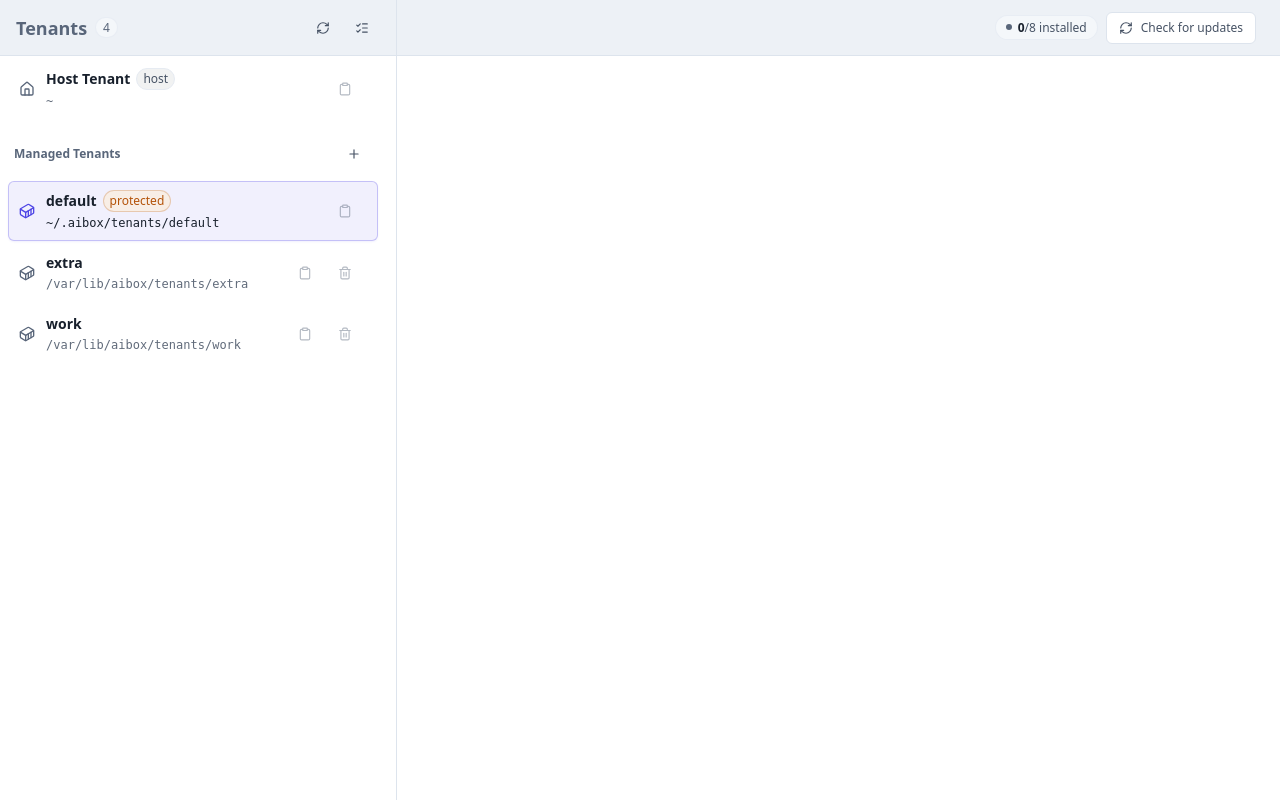
Scenario: TenantPage › lists a batch deletion in catalog order regardless of tick order
Click the button named "Select Tenants" at coordinates (362, 28), box left=344, top=10, right=380, bottom=46
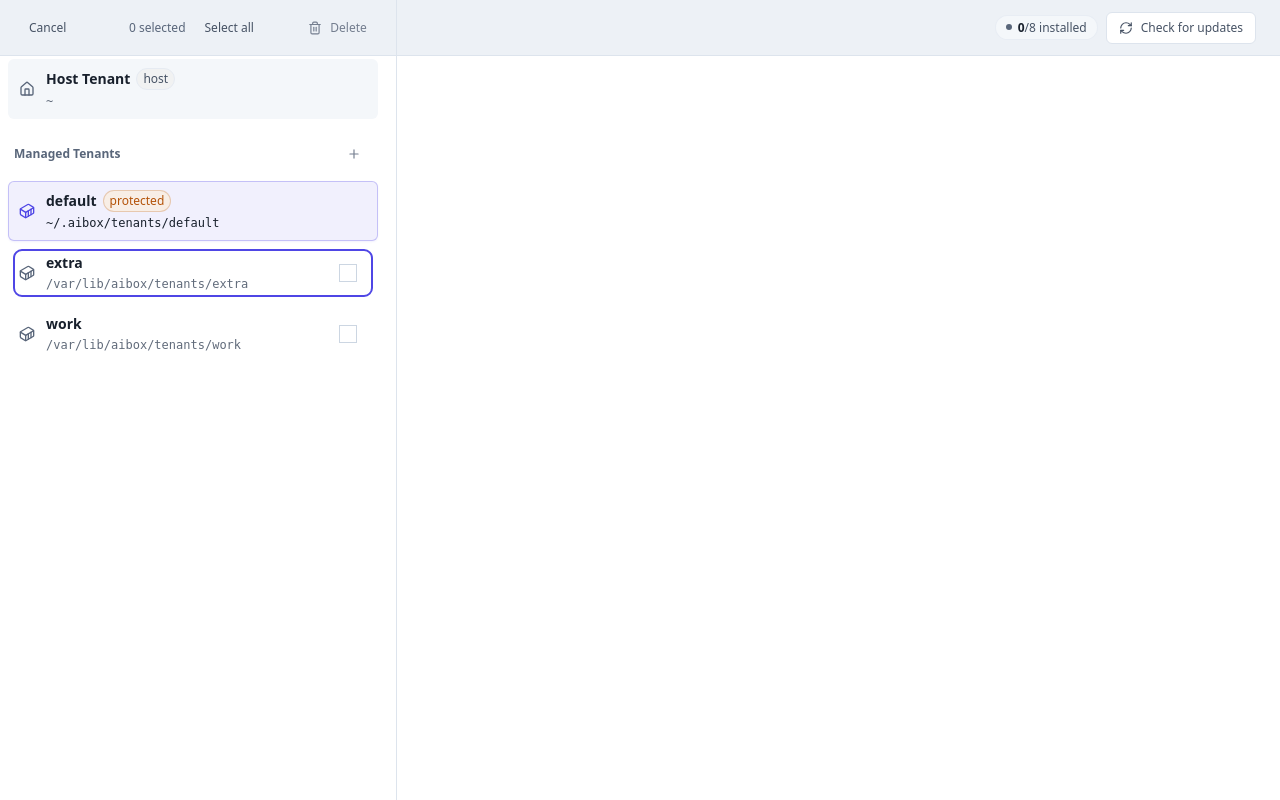
Click the button with aria-label "Select work" at coordinates (64, 324), box left=17, top=314, right=369, bottom=354
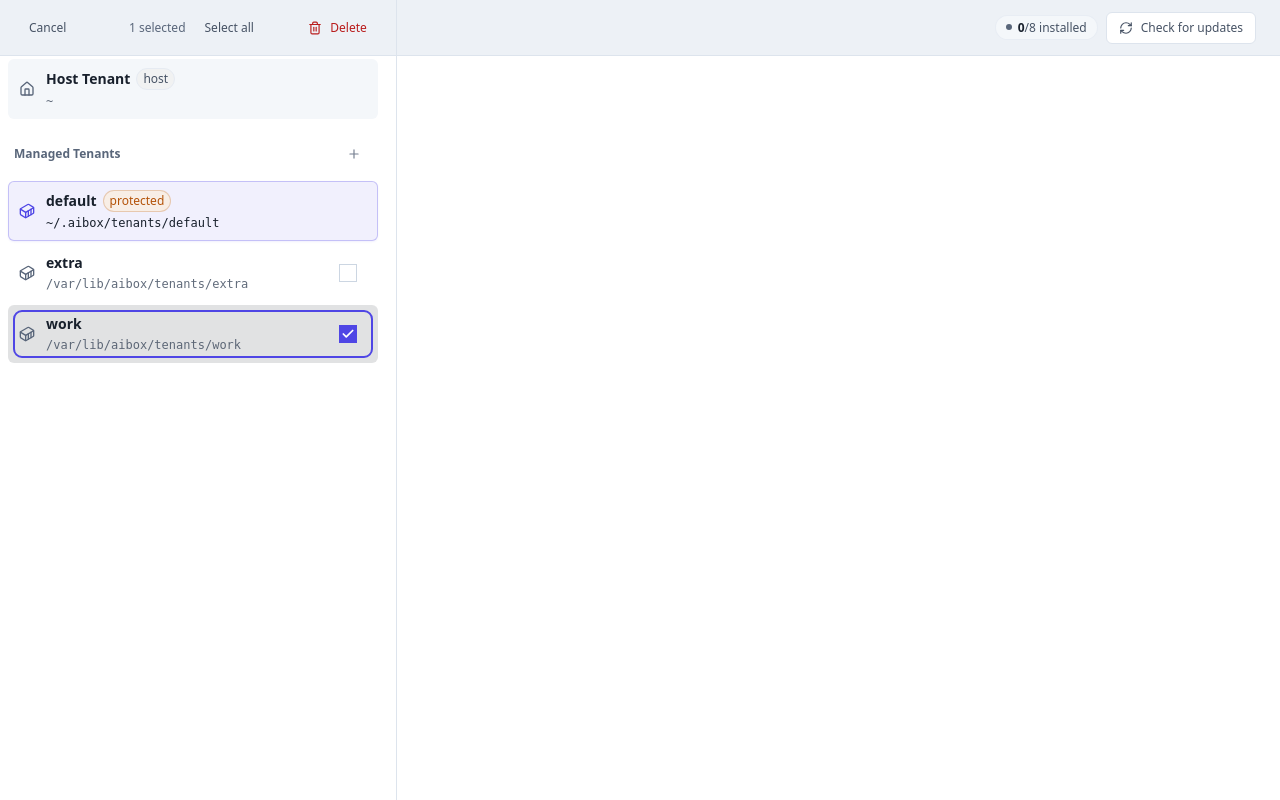
Click the button with aria-label "Select extra" at coordinates (64, 262), box left=17, top=253, right=369, bottom=293
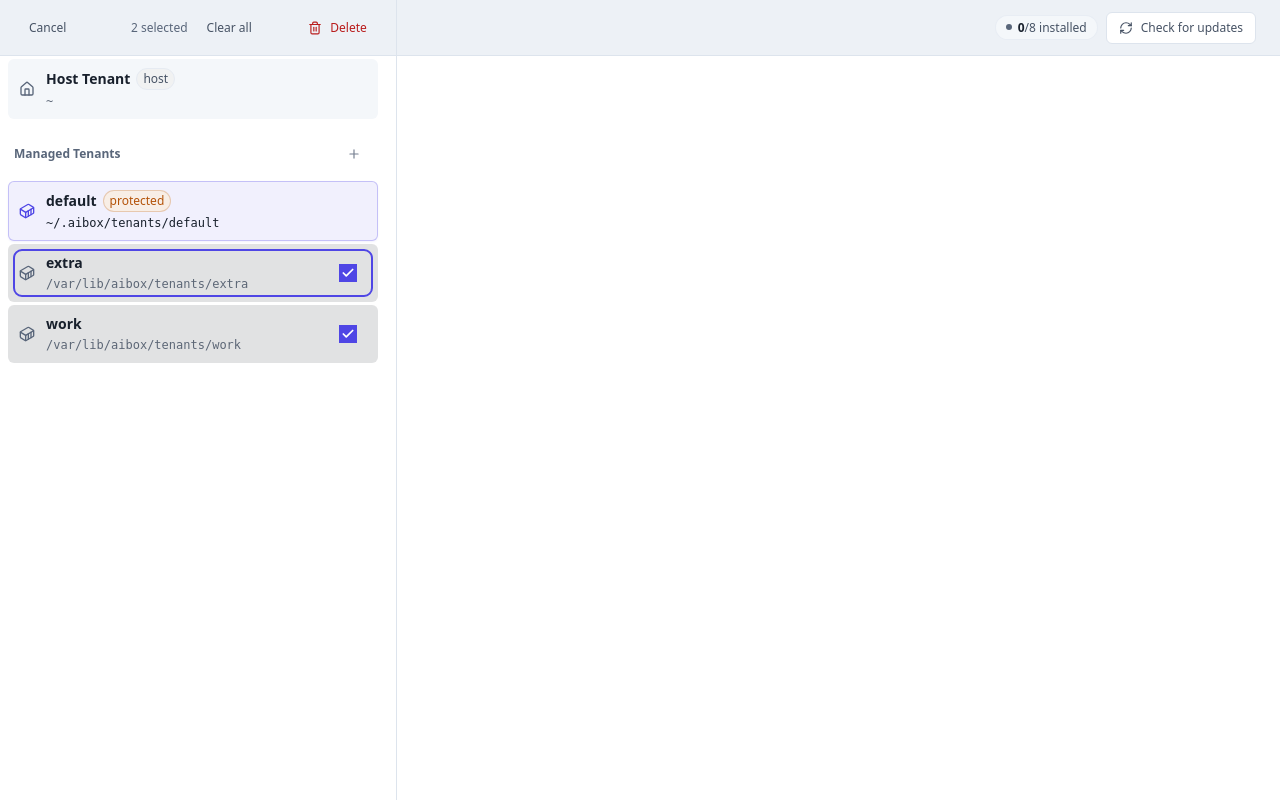
Click the button with aria-label "Delete selected Tenants" at coordinates (338, 28), box left=295, top=10, right=380, bottom=46
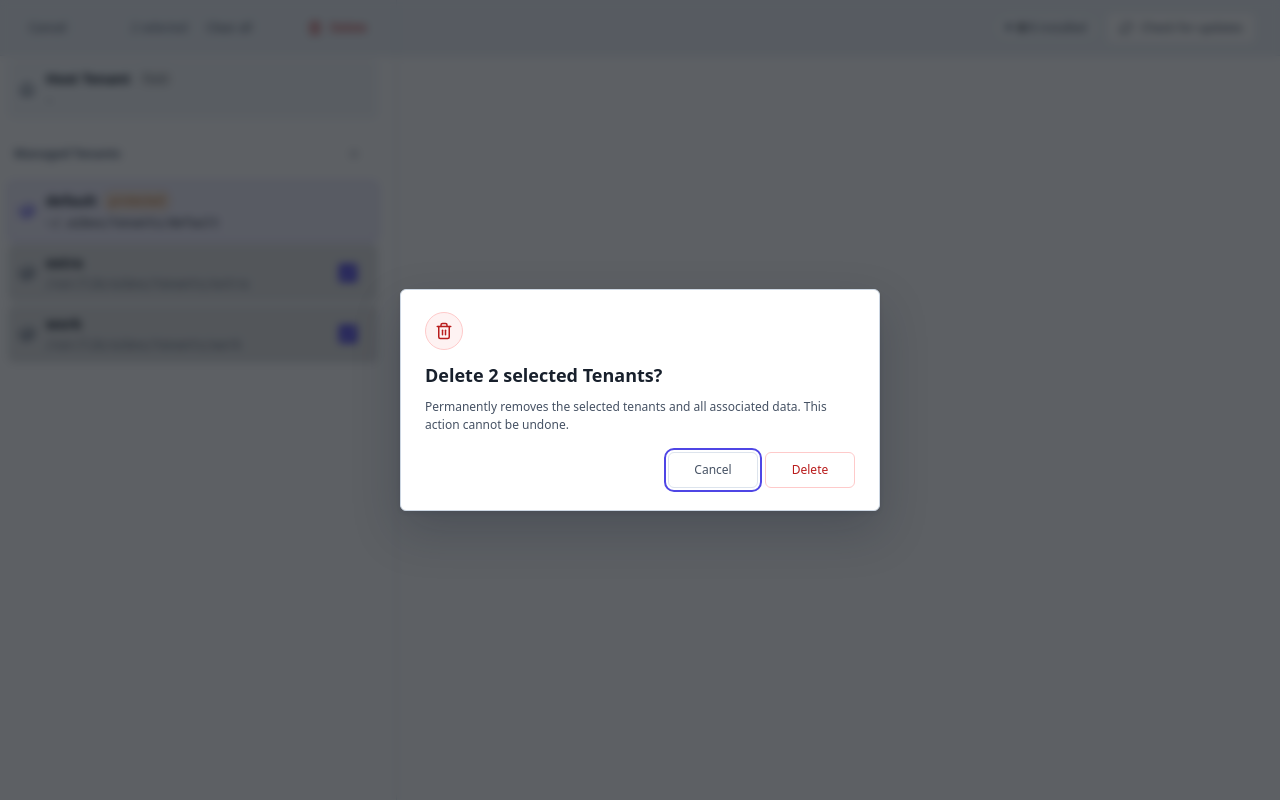
Expected: the text "Permanently removes the selected tenants" is shown, left=425, top=398, right=827, bottom=433
